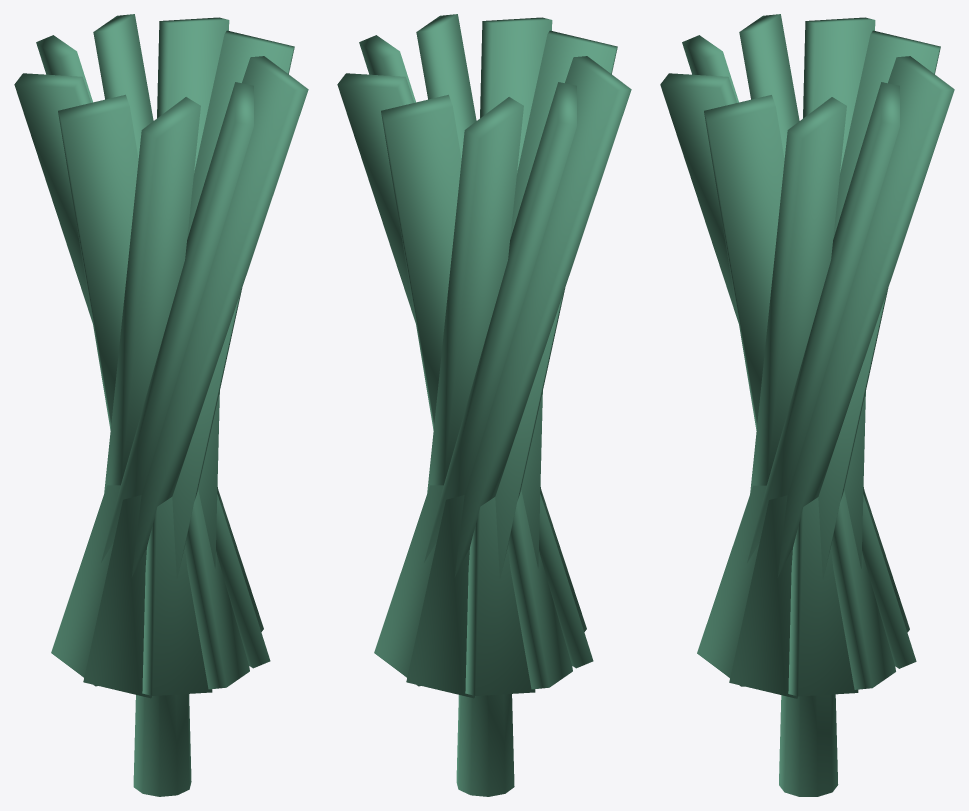
File: SM_AF_Foliage_Reed.glb
3 renders of one model, left to right at view 1: azimuth 30°, elevation 25°; view 2: azimuth 150°, elevation 25°; view 3: azimuth 270°, elevation 25°, orthographic.
Visible parts, largest first — view 1: SM_AF_Foliage_Reed; view 2: SM_AF_Foliage_Reed; view 3: SM_AF_Foliage_Reed.
Part boxes in pixels (x1,y1,x2,y2): SM_AF_Foliage_Reed: [14, 14, 308, 796]; SM_AF_Foliage_Reed: [337, 14, 631, 796]; SM_AF_Foliage_Reed: [660, 14, 954, 796].
Size of the model in its own units: 0.5415 by 1.48 by 0.5461.
